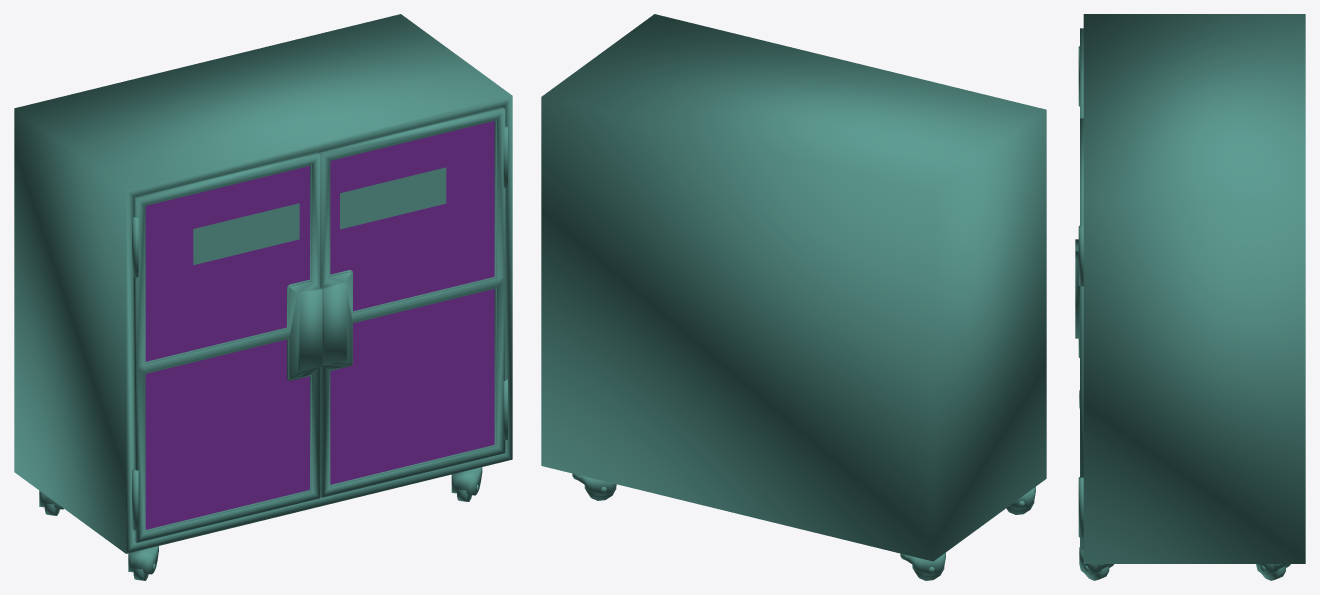
Rendered from MedicineBox.FBX.
3 renders of one model, left to right at view 1: azimuth 30°, elevation 25°; view 2: azimuth 150°, elevation 25°; view 3: azimuth 270°, elevation 25°, orthographic.
Visible parts, largest first — view 1: Box001, Cylinder002, Cylinder004, Cylinder020, Cylinder022; view 2: Box001, Cylinder019, Cylinder021; view 3: Box001, Cylinder004, Cylinder002, Cylinder020, Cylinder021.
Part boxes in pixels (<box>): Box001: <box>14,14,512,553</box>; Cylinder002: <box>132,151,322,542</box>; Cylinder004: <box>318,106,507,497</box>; Cylinder020: <box>451,467,482,501</box>; Cylinder022: <box>128,546,158,580</box>; Box001: <box>541,14,1046,561</box>; Cylinder019: <box>900,552,945,580</box>; Cylinder021: <box>572,473,616,500</box>; Box001: <box>1083,14,1305,563</box>; Cylinder004: <box>1075,118,1083,549</box>; Cylinder002: <box>1075,28,1083,357</box>; Cylinder020: <box>1079,547,1113,580</box>; Cylinder021: <box>1256,564,1290,580</box>.
Bounding box in the file's own units: 143 × 73.93 × 140.
